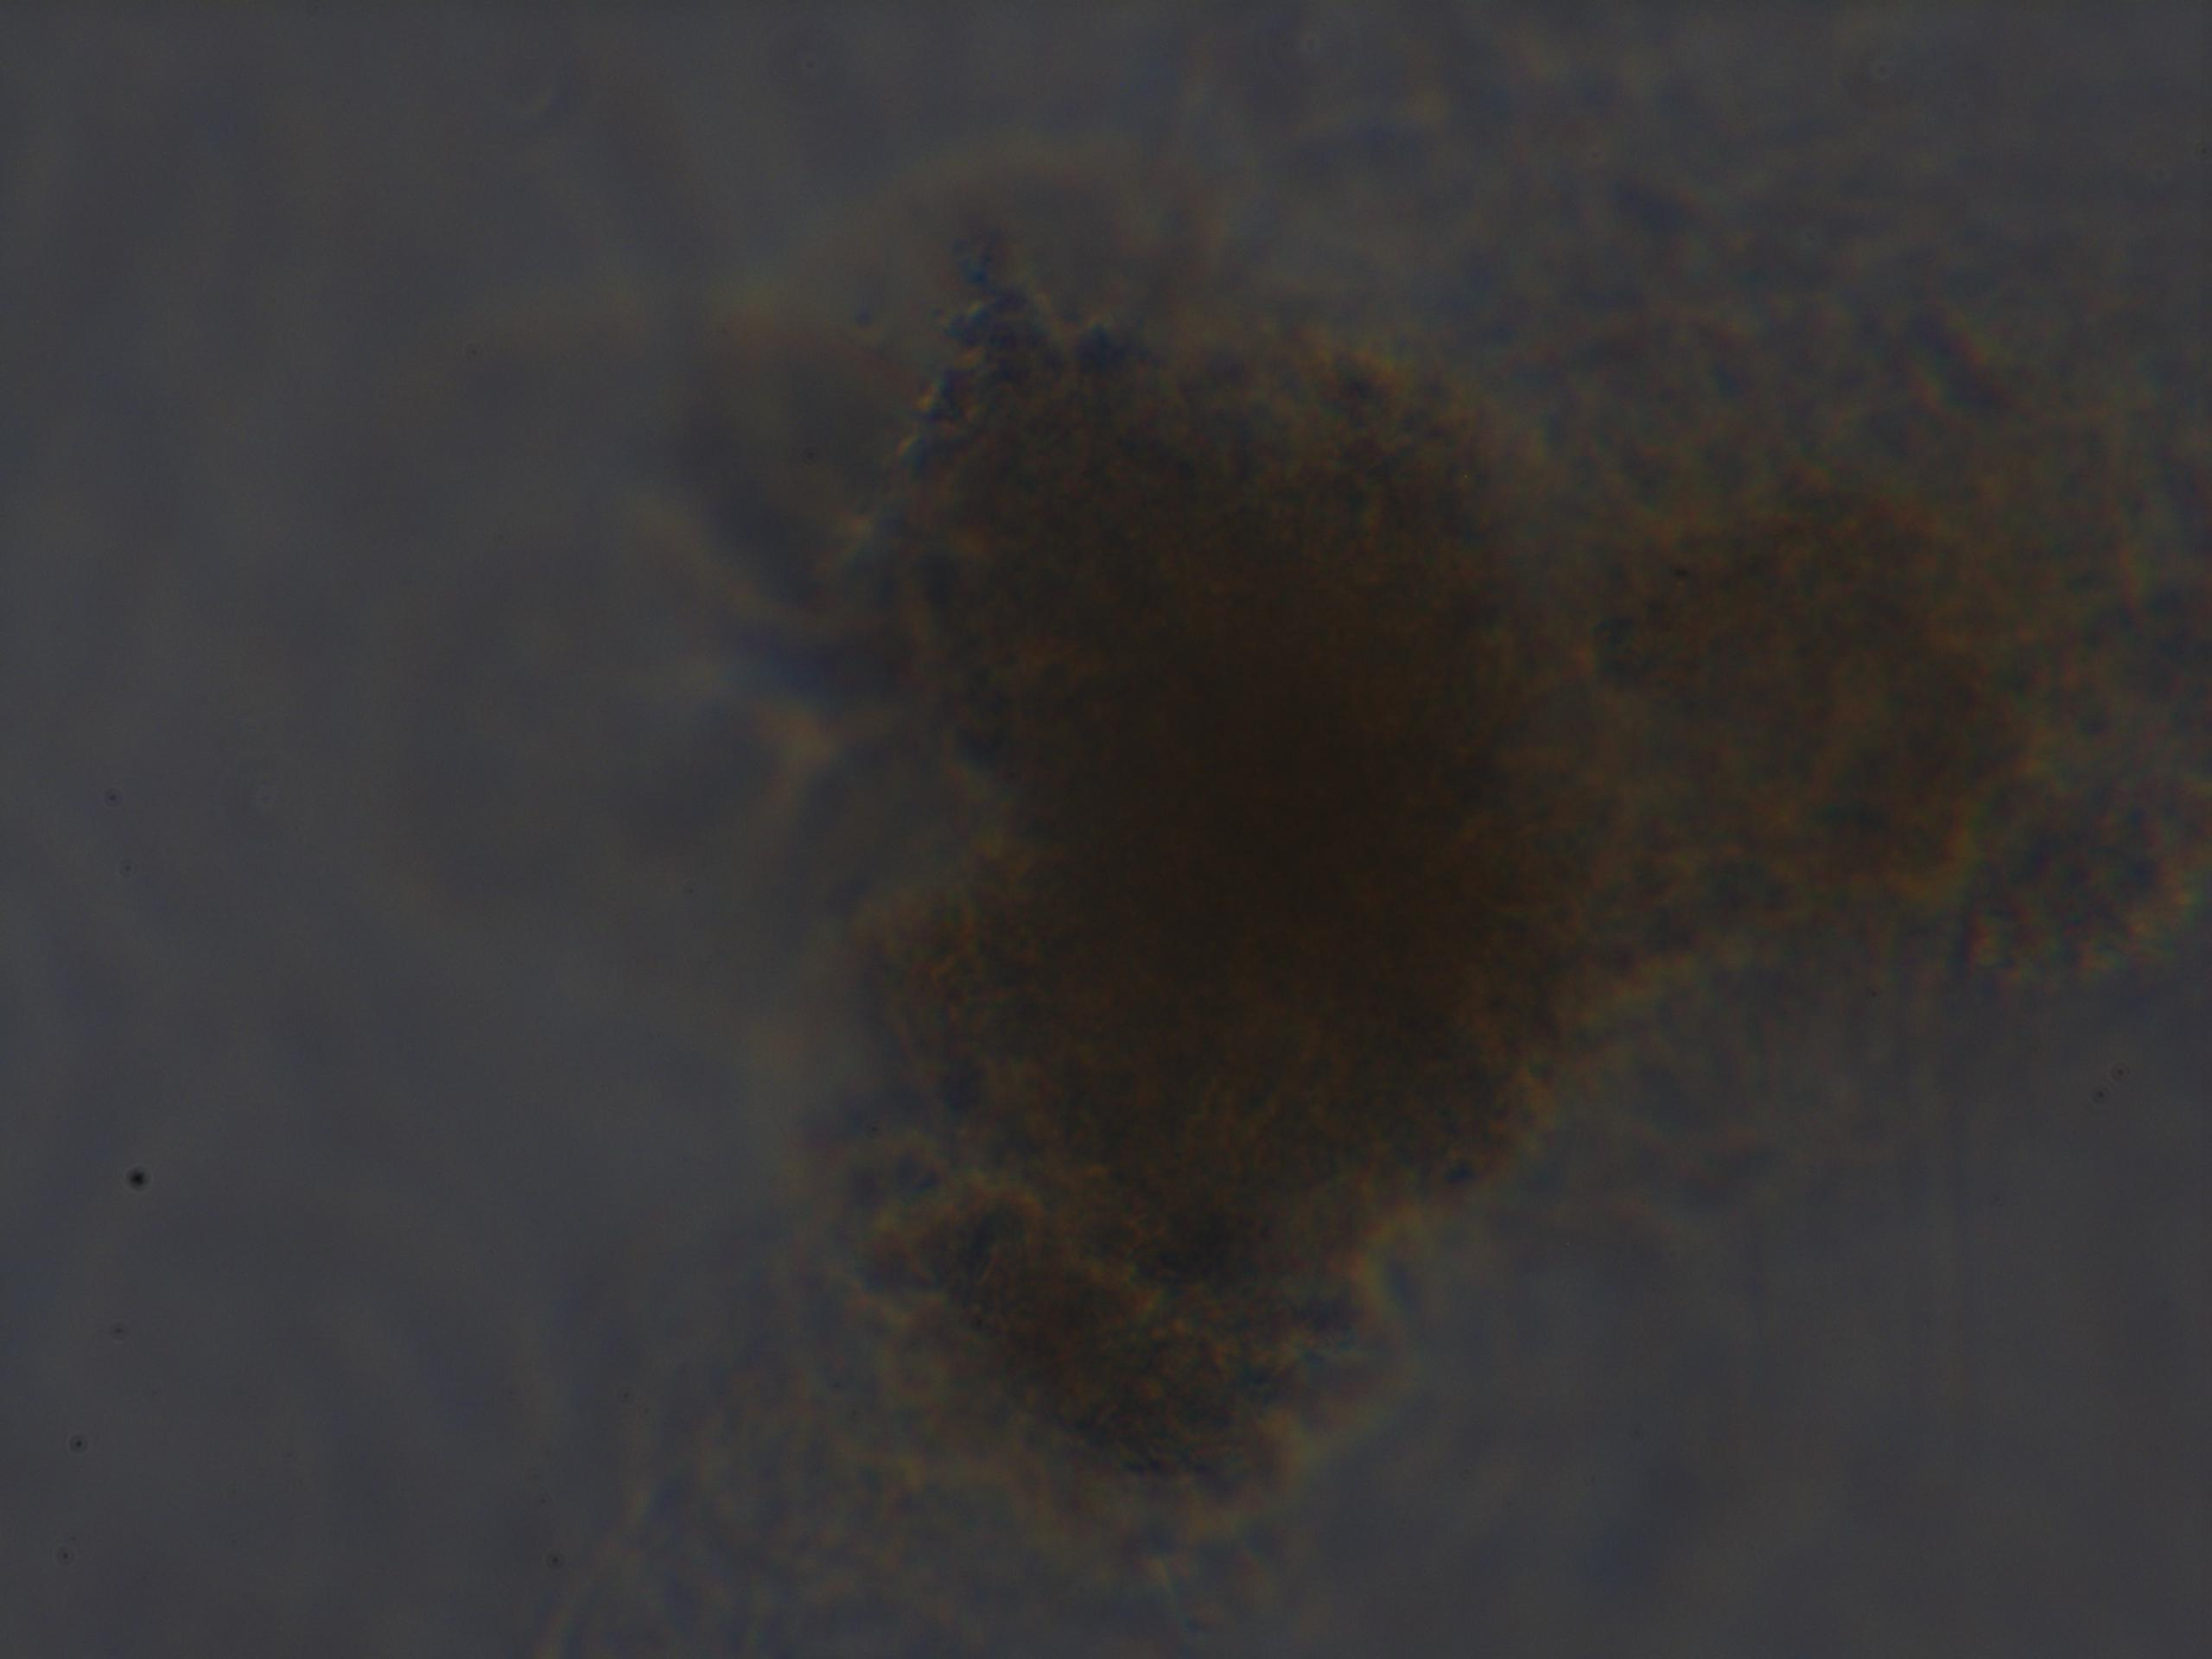spherical_floc: (873, 258, 1594, 1481)
